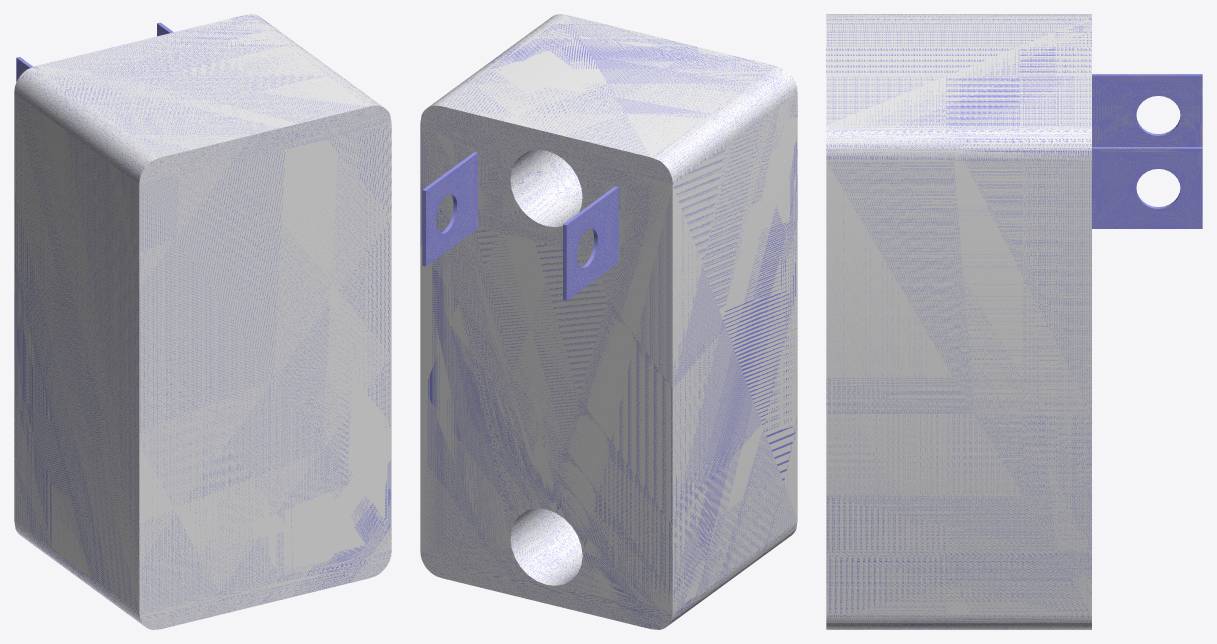
The model's file is original-15.obj.
3 views of the same model, side by side, from view 1: azimuth 30°, elevation 25°; view 2: azimuth 150°, elevation 25°; view 3: azimuth 270°, elevation 25° (orthographic). The views are drawn at different scales.
Parts seen in each view (by area): view 1: Group15/mesh65/mesh65-geometry#mesh65-geometry; view 2: Group15/mesh65/mesh65-geometry#mesh65-geometry; view 3: Group15/mesh65/mesh65-geometry#mesh65-geometry.
Part boxes in pixels (left/top/right/bottom): Group15/mesh65/mesh65-geometry#mesh65-geometry: left=14, top=14, right=391, bottom=629; Group15/mesh65/mesh65-geometry#mesh65-geometry: left=420, top=14, right=797, bottom=629; Group15/mesh65/mesh65-geometry#mesh65-geometry: left=826, top=14, right=1202, bottom=629.
Size of the model in its own units: 0.6296 by 1.12 by 0.7646.
